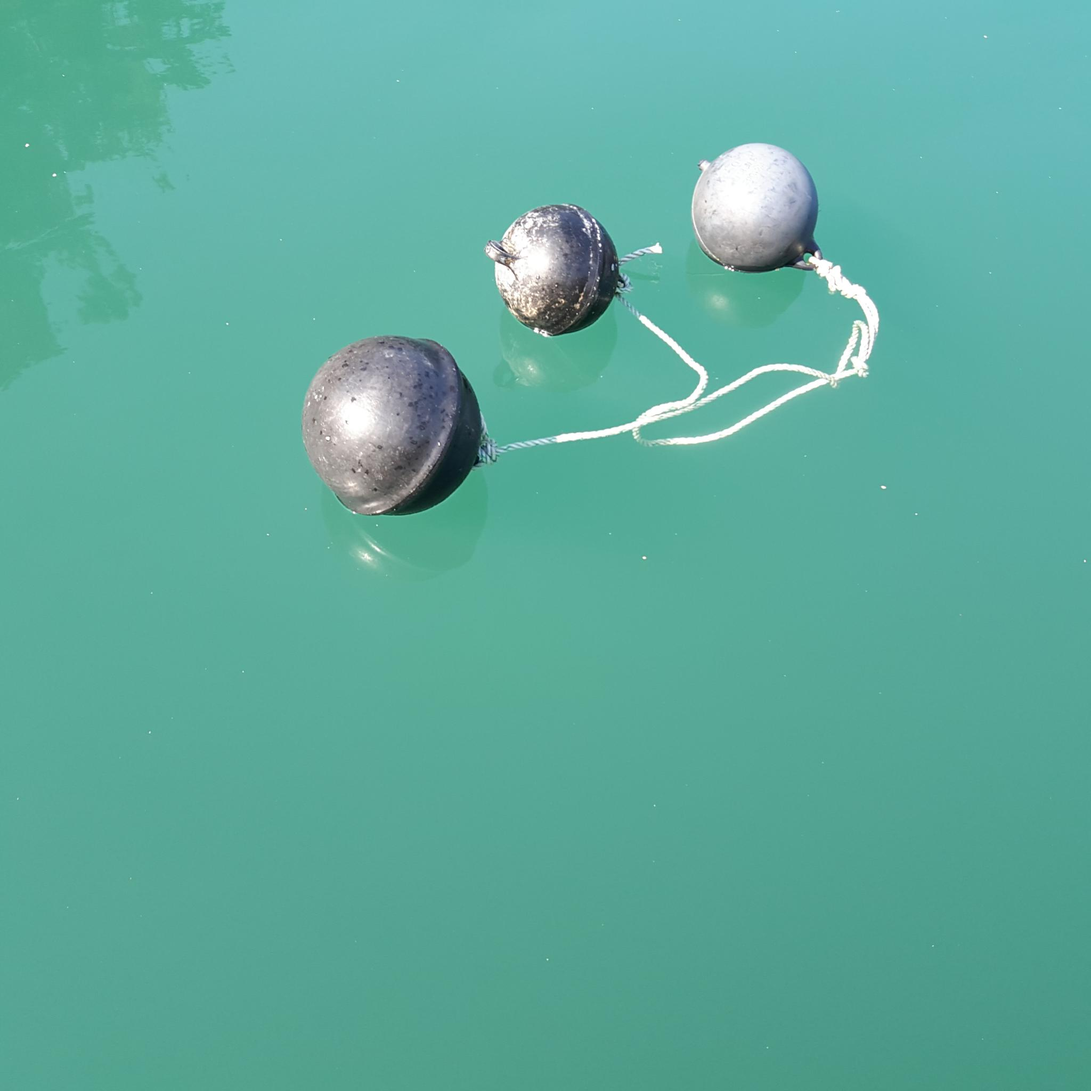sampah_terapung: (474, 242, 880, 472), (302, 335, 481, 517), (485, 204, 626, 337), (691, 143, 823, 274)
